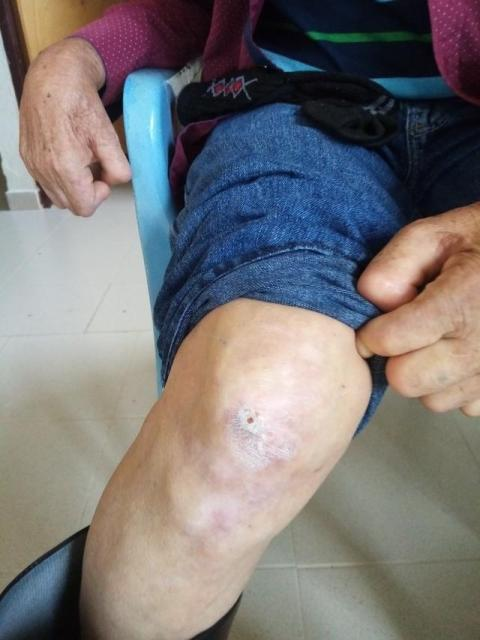wound: (223, 402, 299, 470)
